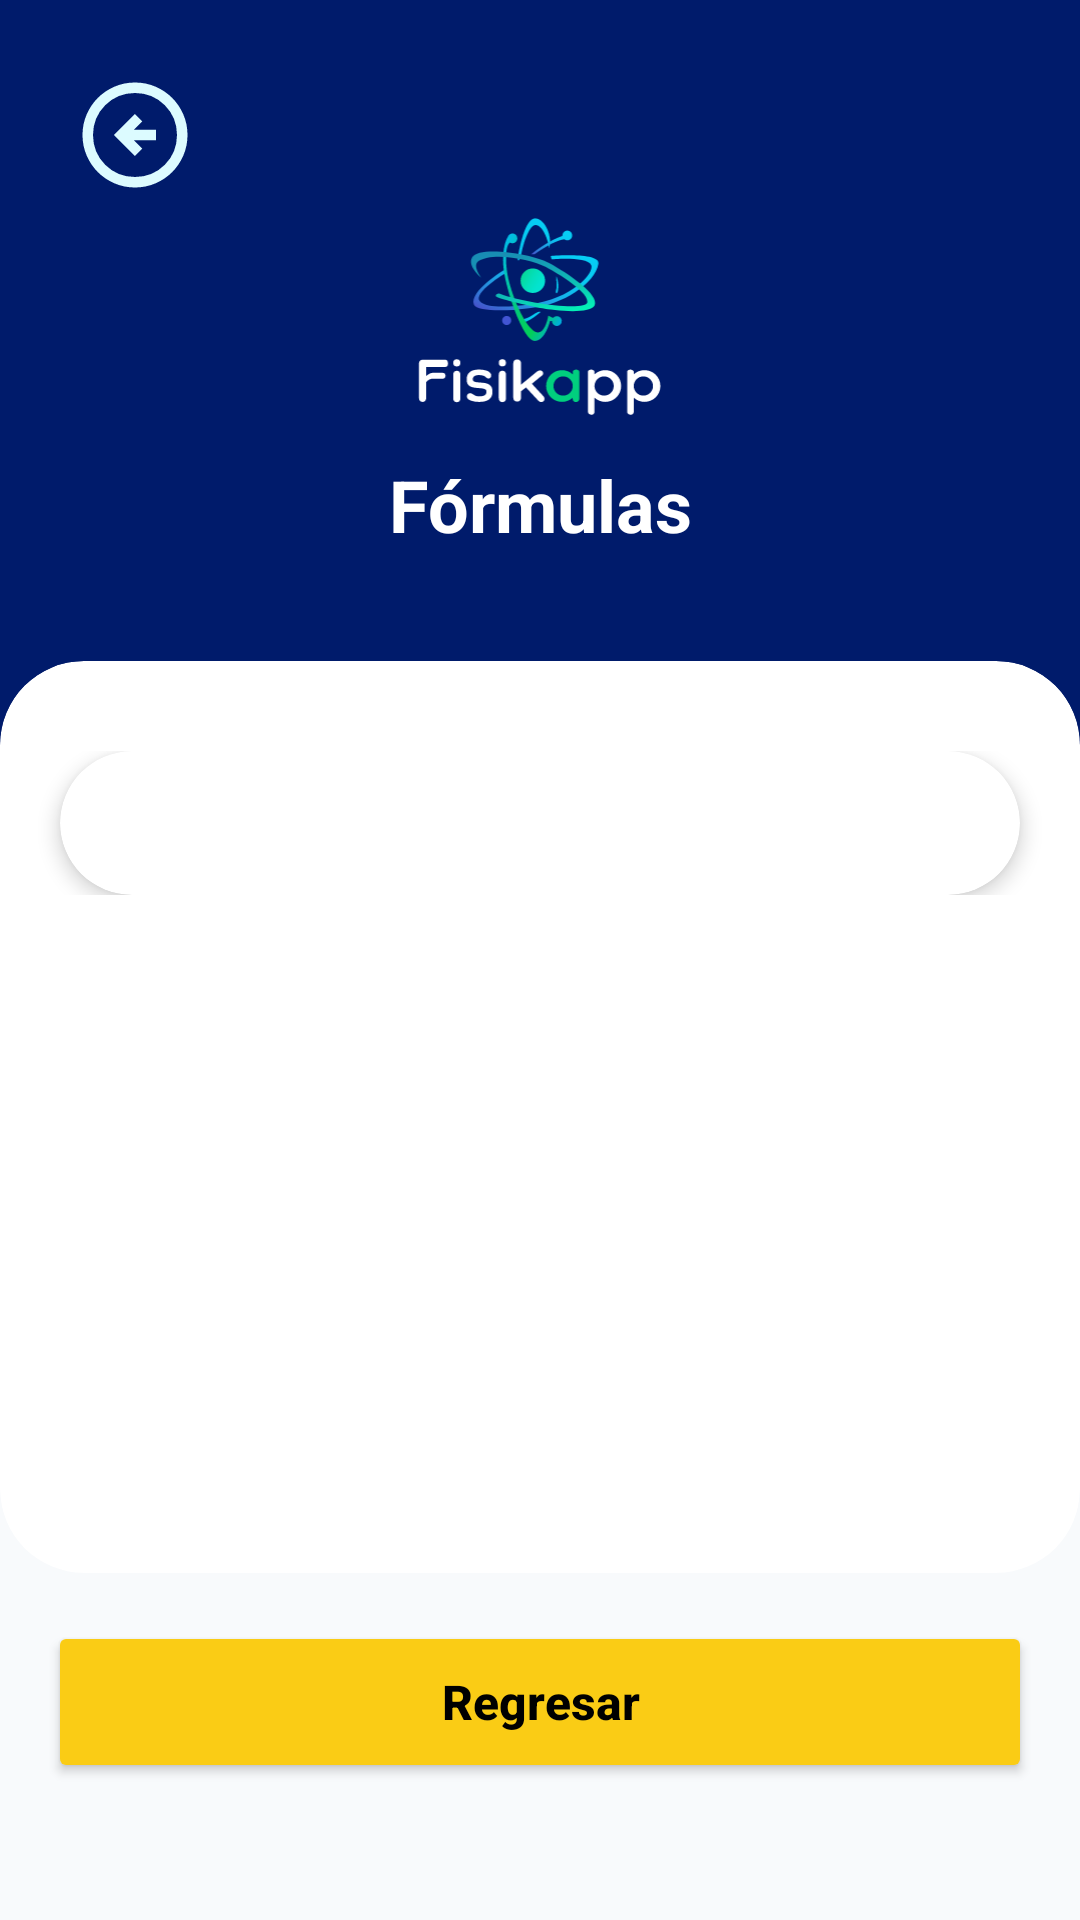

Screen size 1080px×1920px. Icon name, then its center in pixels as point (x, y):
arrow circle left: point (135, 135)
